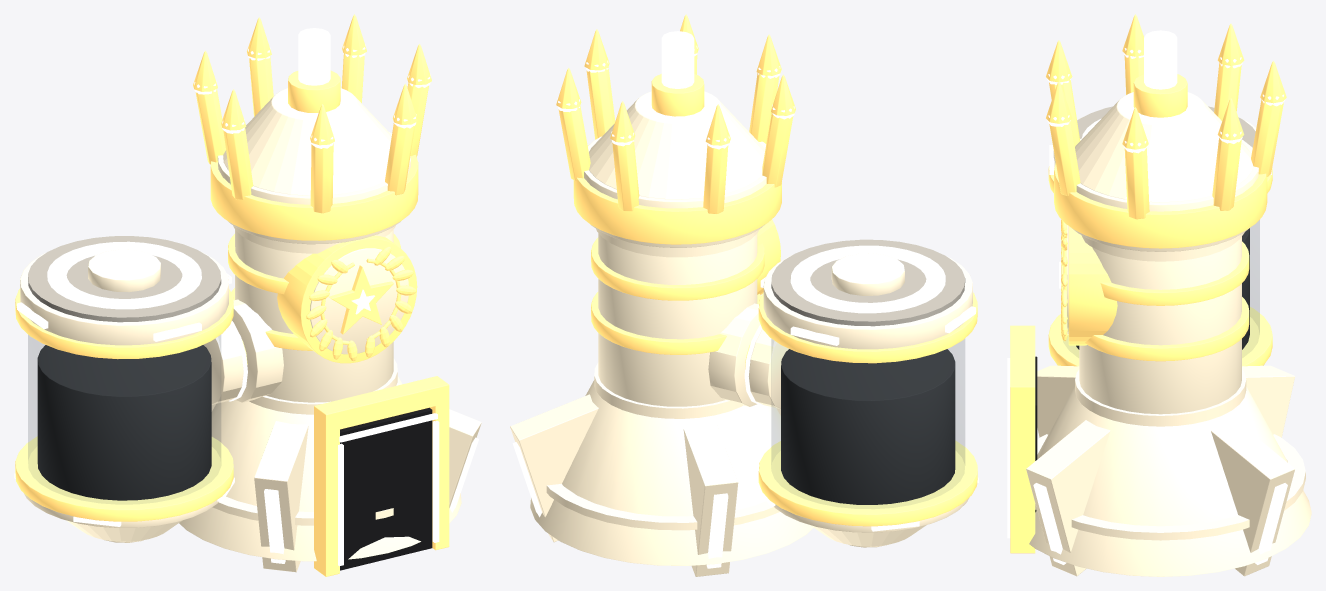
File: Vat_Graduate_T1.glb
3 renders of one model, left to right at view 1: azimuth 30°, elevation 25°; view 2: azimuth 150°, elevation 25°; view 3: azimuth 270°, elevation 25°, orthographic. The views are drawn at different scales.
Parts seen in each view (by area): view 1: Vat_Graduate_T1; view 2: Vat_Graduate_T1; view 3: Vat_Graduate_T1.
Boxes of the visible parts, box(x1,y1,x2,y2) form: Vat_Graduate_T1: box(14, 14, 481, 576); Vat_Graduate_T1: box(510, 14, 978, 576); Vat_Graduate_T1: box(1007, 14, 1311, 576).
Bounding box in the file's own units: 4.67 × 5.21 × 2.92.
